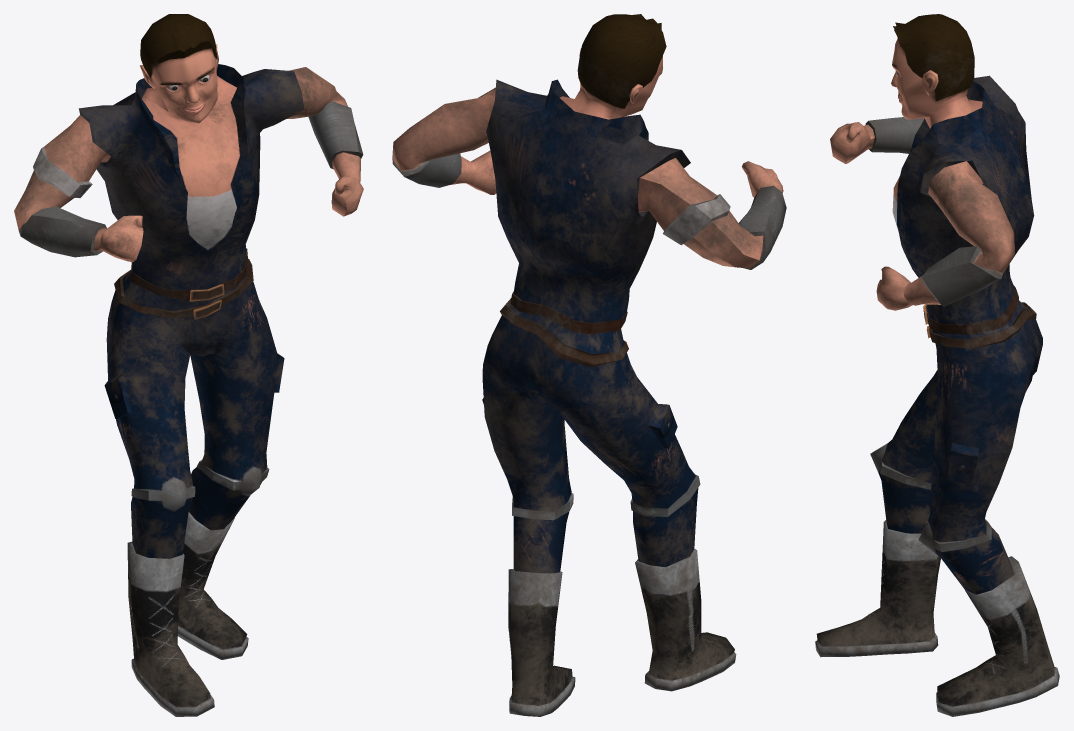
The model's file is Anim_ataque_d1_jugador.0030.obj.
3 views of the same model, side by side, from view 1: azimuth 30°, elevation 25°; view 2: azimuth 150°, elevation 25°; view 3: azimuth 270°, elevation 25° (orthographic). The views are drawn at different scales.
Parts seen in each view (by area): view 1: polySurface1; view 2: polySurface1; view 3: polySurface1.
Part boxes in pixels (<box>): polySurface1: <box>14,14,363,716</box>; polySurface1: <box>392,14,786,716</box>; polySurface1: <box>815,14,1059,716</box>.
Bounding box in the file's own units: 5.11 × 9.41 × 3.15.
